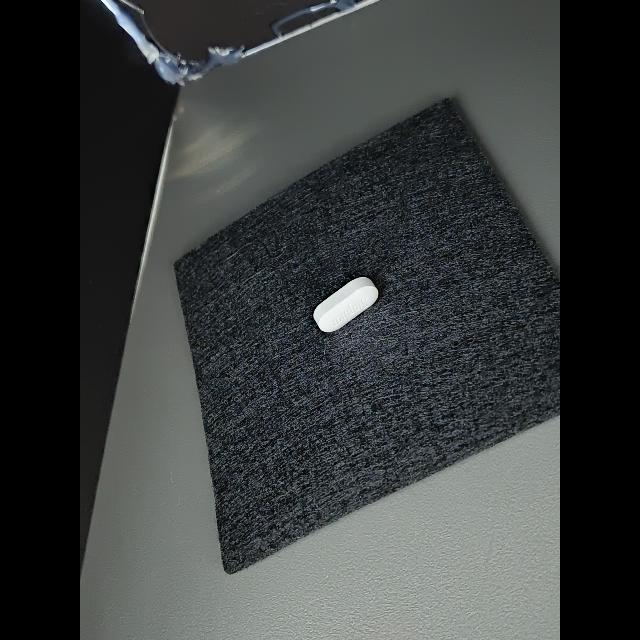Intact Pill: (313, 277, 378, 332)
